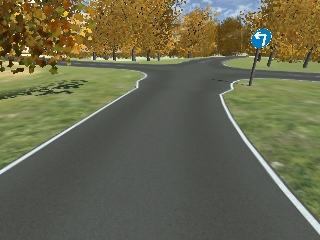left: (251, 29, 272, 47)
